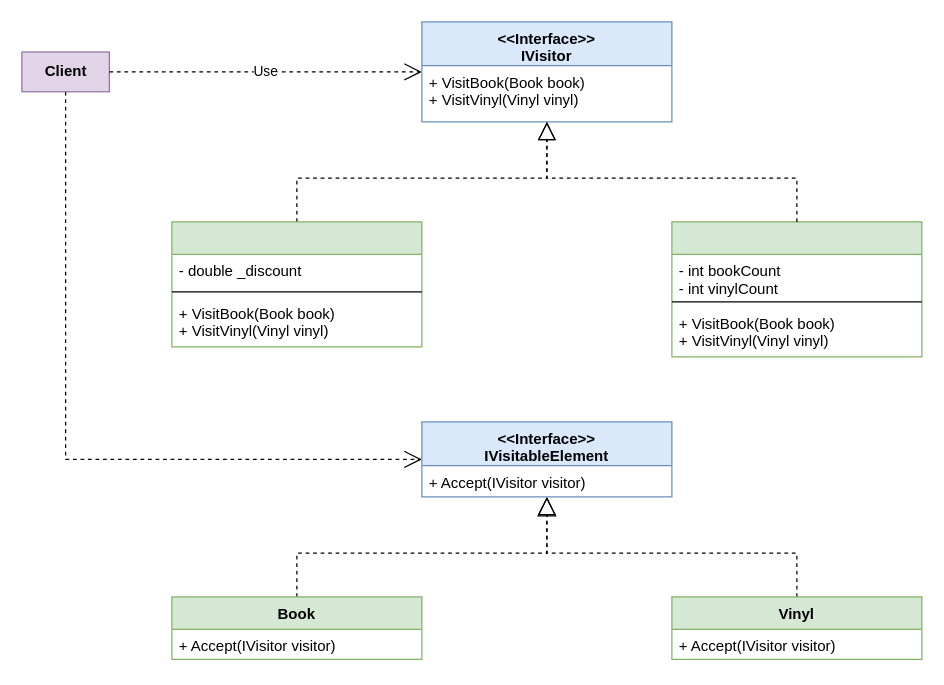
This 944x685 diagram has some shape labels left out. The shapes that lost their labels are listed below. From the top down, each one's box as (x1, y1, x2, y2) in pixels, then its label:
(171, 221, 422, 347): DiscountVisitor
(671, 221, 922, 357): SalesVisitor
